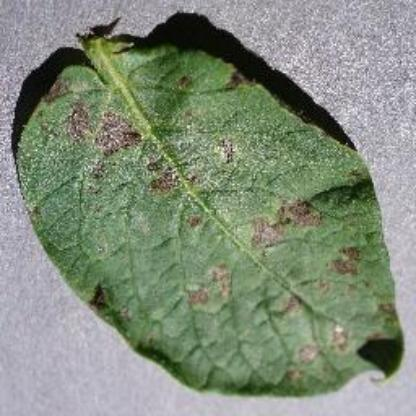Early-Blight: (16, 22, 408, 400)
